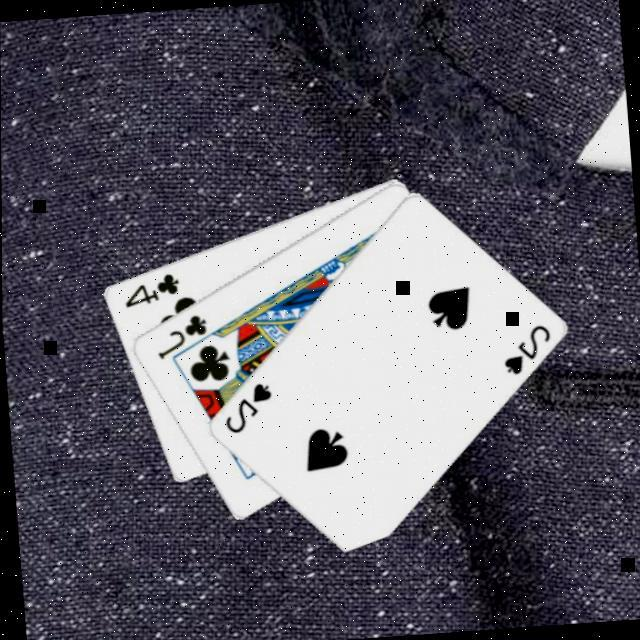2S: (218, 376, 278, 436), (498, 318, 558, 378)
4C: (120, 268, 184, 309)
JC: (152, 308, 212, 362)
